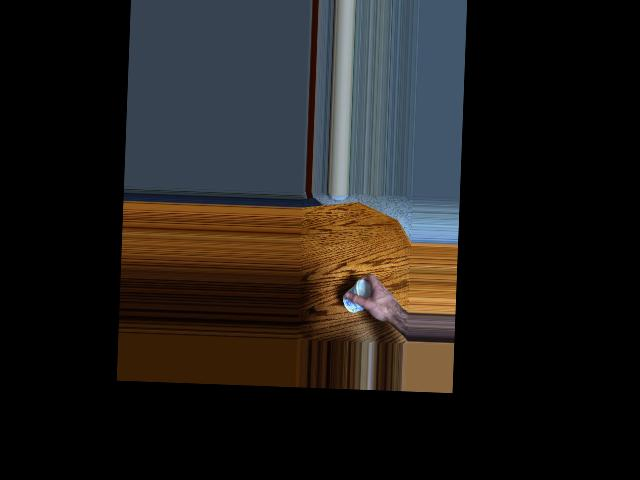cotage: (344, 277, 377, 316)
